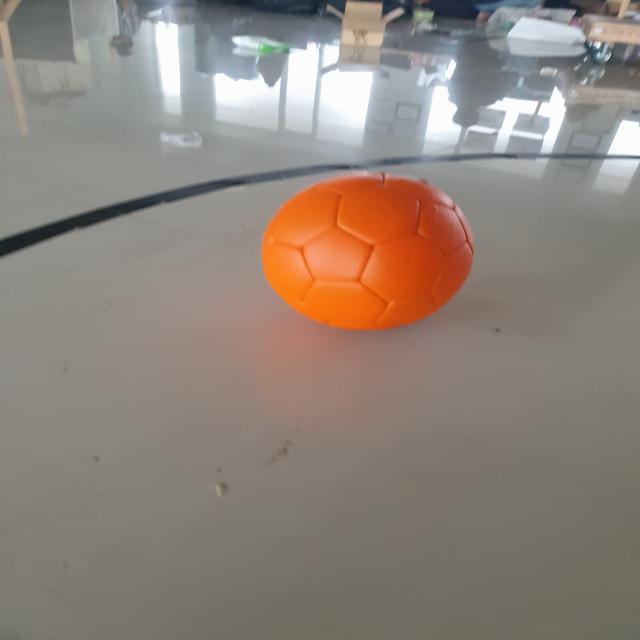bola: (250, 168, 483, 342)
